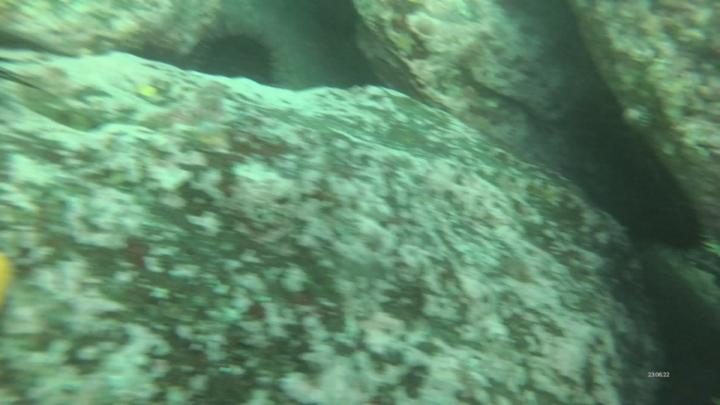echinus: (198, 30, 277, 86), (638, 197, 704, 254)
